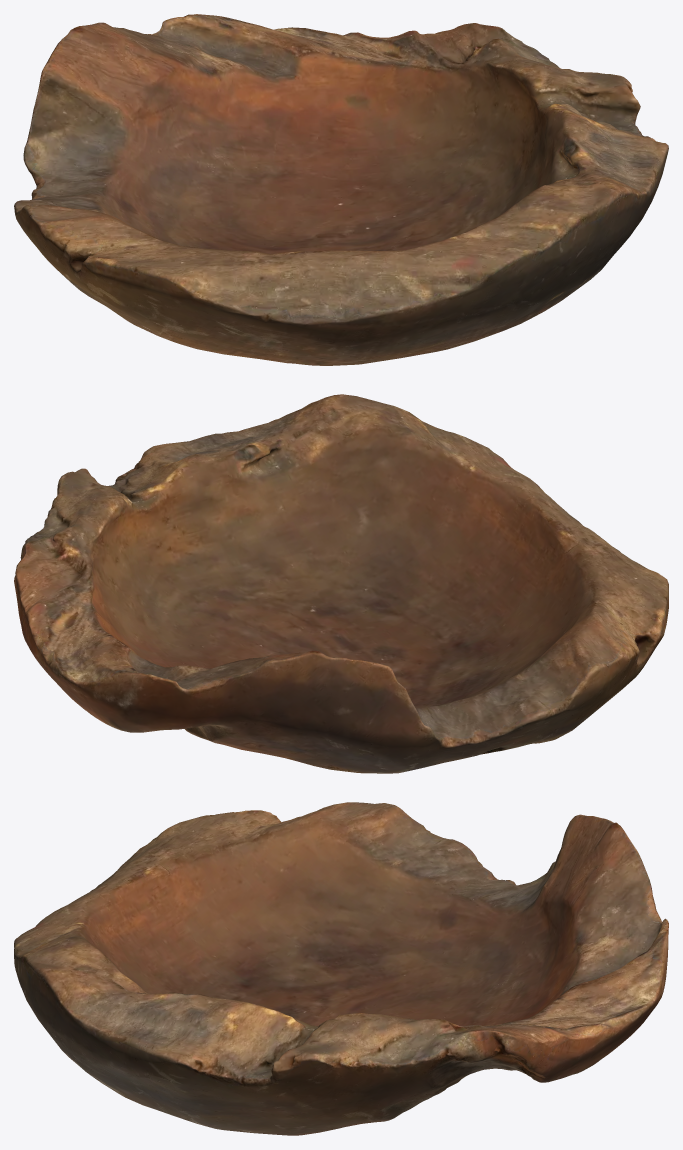
Rendered from wooden_bowl_01.glb.
3 renders of one model, top to bottom at view 1: azimuth 30°, elevation 25°; view 2: azimuth 150°, elevation 25°; view 3: azimuth 270°, elevation 25°, orthographic. The views are drawn at different scales.
Visible parts, largest first — view 1: wooden_bowl_01; view 2: wooden_bowl_01; view 3: wooden_bowl_01.
Boxes of the visible parts, <box> form: wooden_bowl_01: <box>14,14,668,365</box>; wooden_bowl_01: <box>14,394,668,773</box>; wooden_bowl_01: <box>14,802,668,1135</box>.
Bounding box in the file's own units: 0.3131 × 0.0937 × 0.3091.
1 material, 1 textured.
